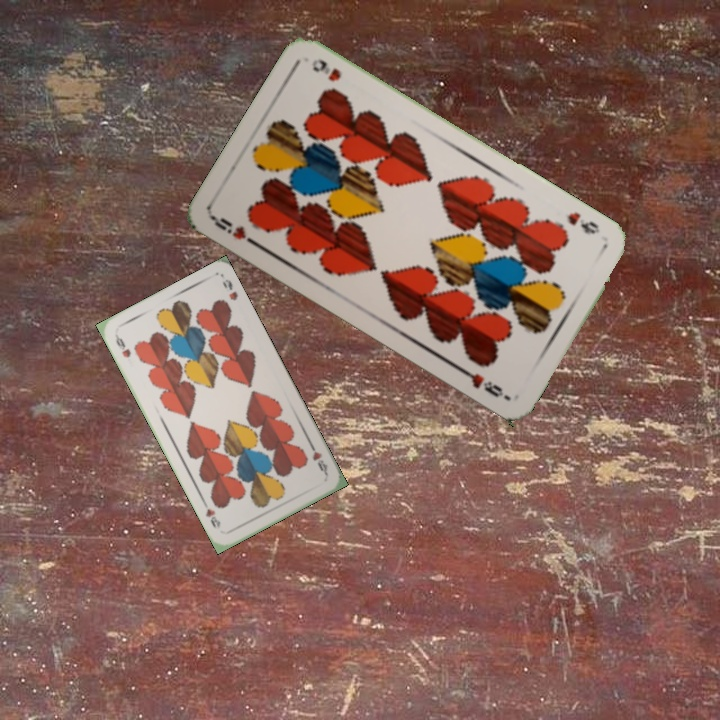H9: (209, 213, 263, 251), (562, 208, 603, 237), (306, 440, 331, 478), (111, 330, 134, 360)
